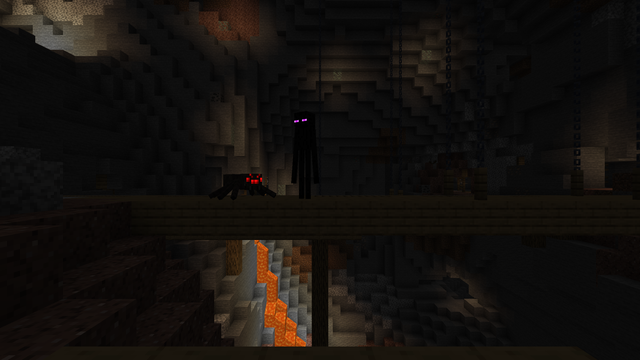araignees: (214, 170, 269, 199)
endermens: (294, 108, 313, 198)
squelettes: (431, 153, 437, 169)
